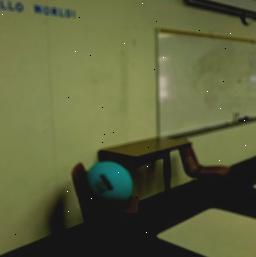algae: (78, 160, 136, 210)
